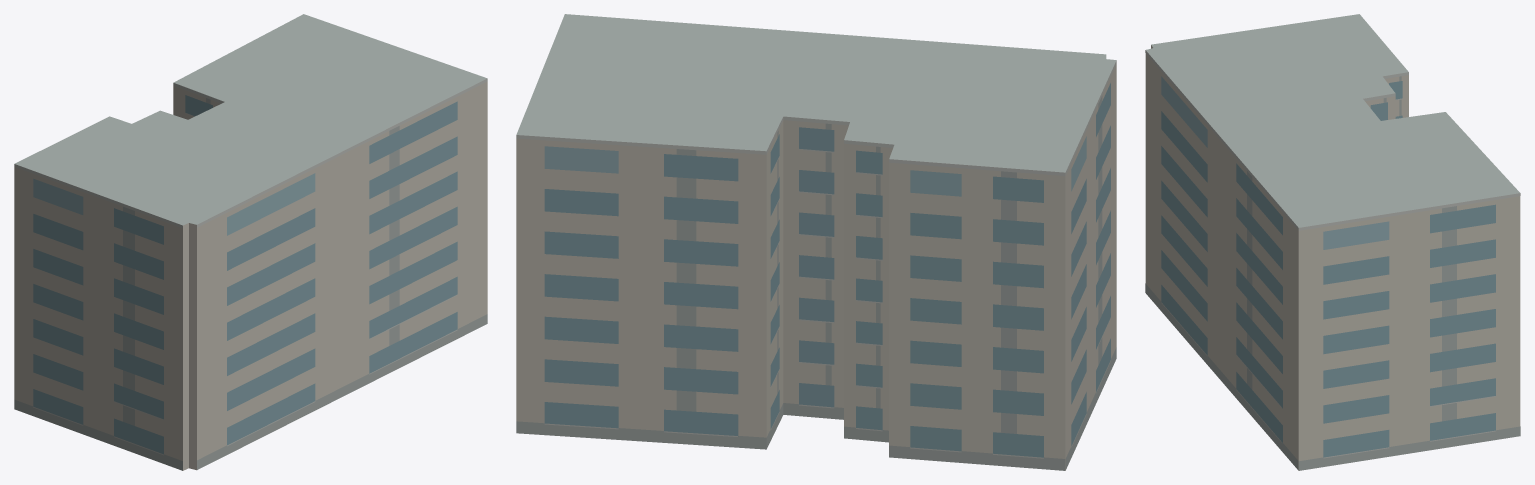
The model's file is survey-upis-32948501.glb.
The picture shows the model from 3 angles, left to right: view 1: azimuth 30°, elevation 25°; view 2: azimuth 150°, elevation 25°; view 3: azimuth 270°, elevation 25°; orthographic projection. The views are drawn at different scales.
Visible parts, largest first — view 1: survey-upis-32948501.tmp; view 2: survey-upis-32948501.tmp; view 3: survey-upis-32948501.tmp.
Part boxes in pixels (box(x1,y1,x2,y2)): survey-upis-32948501.tmp: box(14, 14, 487, 470); survey-upis-32948501.tmp: box(516, 14, 1116, 470); survey-upis-32948501.tmp: box(1145, 14, 1520, 470).
Bounding box in the file's own units: 37.95 × 20.1 × 28.12.
